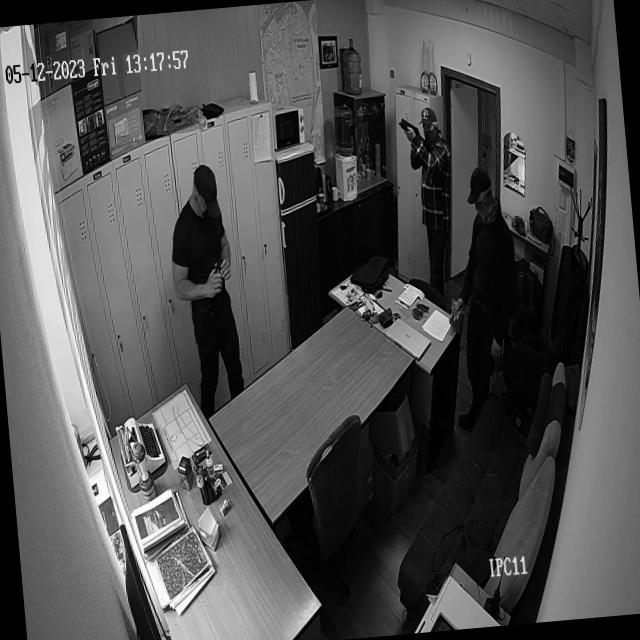gun: (398, 115, 424, 142)
person: (436, 164, 530, 436), (162, 161, 248, 421)
person with a gun: (397, 105, 463, 298)
